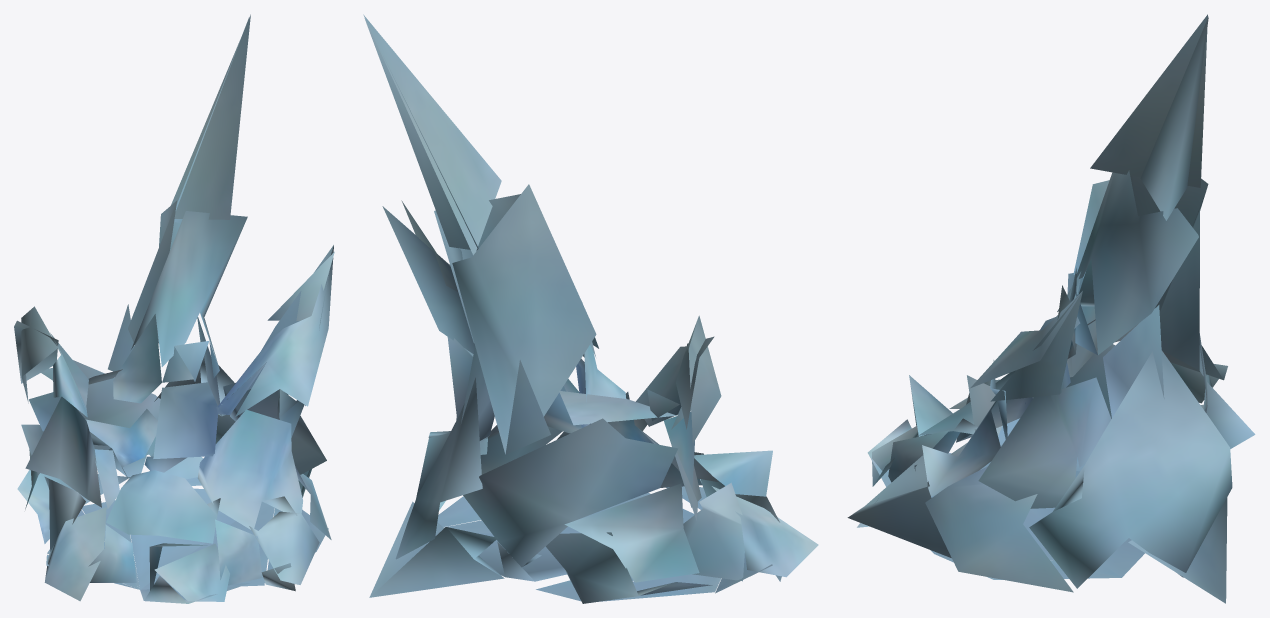
File: iceshard_lo.glb
3 renders of one model, left to right at view 1: azimuth 30°, elevation 25°; view 2: azimuth 150°, elevation 25°; view 3: azimuth 270°, elevation 25°, orthographic. The views are drawn at different scales.
Parts seen in each view (by area): view 1: iceshard_lo; view 2: iceshard_lo; view 3: iceshard_lo.
Part boxes in pixels (x1=…): iceshard_lo: x1=14, y1=14, x2=334, y2=603; iceshard_lo: x1=363, y1=14, x2=818, y2=603; iceshard_lo: x1=847, y1=14, x2=1255, y2=603.
Size of the model in its own units: 2.84 by 4.12 by 2.55.
Materials: 1 (1 with a texture image).
